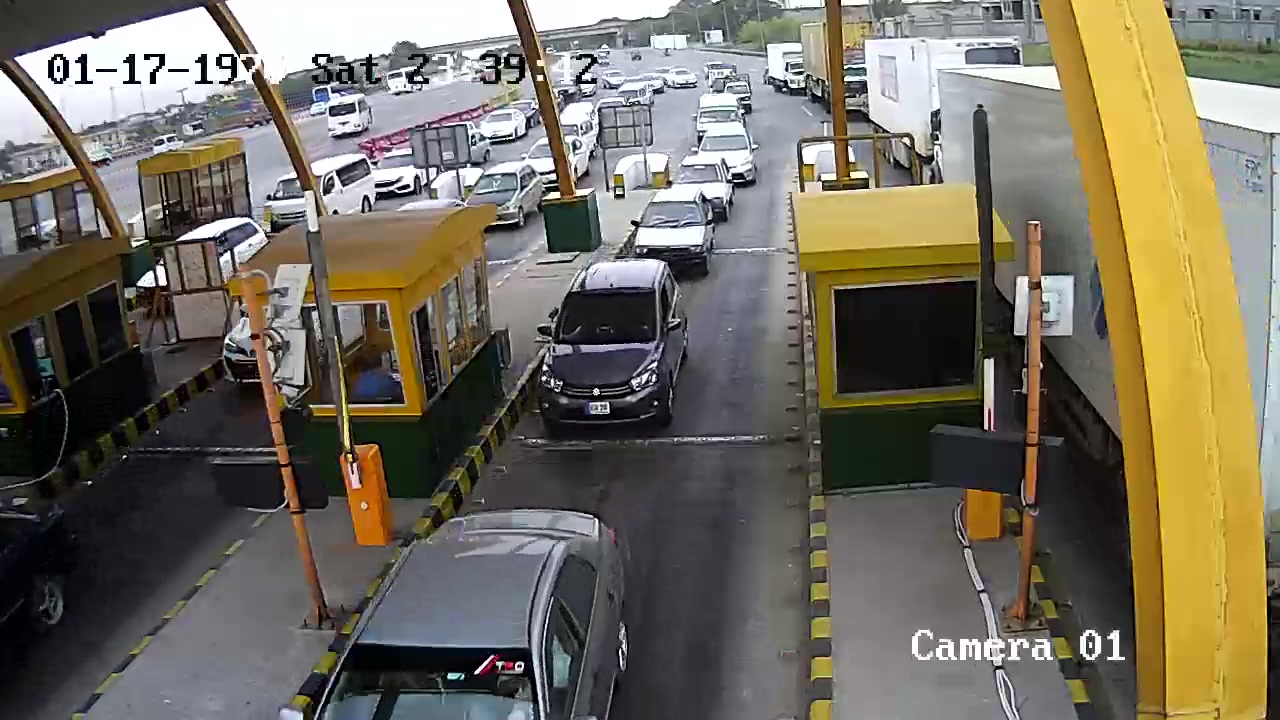F1: (524, 254, 726, 445)
